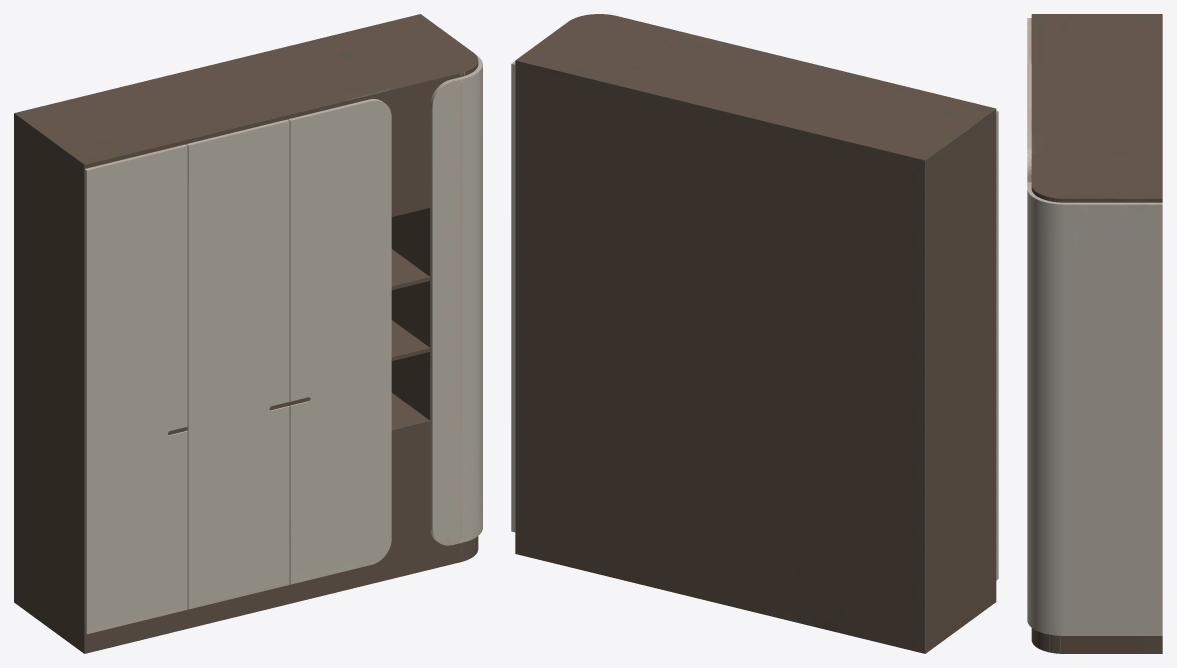
File: wardrobeModern.glb
3 views of the same model, side by side, from view 1: azimuth 30°, elevation 25°; view 2: azimuth 150°, elevation 25°; view 3: azimuth 270°, elevation 25° (orthographic). The views are drawn at different scales.
Parts seen in each view (by area): view 1: Modern Wardrobe; view 2: Modern Wardrobe; view 3: Modern Wardrobe.
Part boxes in pixels (bbox=[...]): Modern Wardrobe: bbox=[14, 14, 482, 653]; Modern Wardrobe: bbox=[511, 14, 998, 653]; Modern Wardrobe: bbox=[1027, 14, 1162, 653].
Bounding box in the file's own units: 2.02 × 2.3 × 0.62.
1 material, 1 textured.
